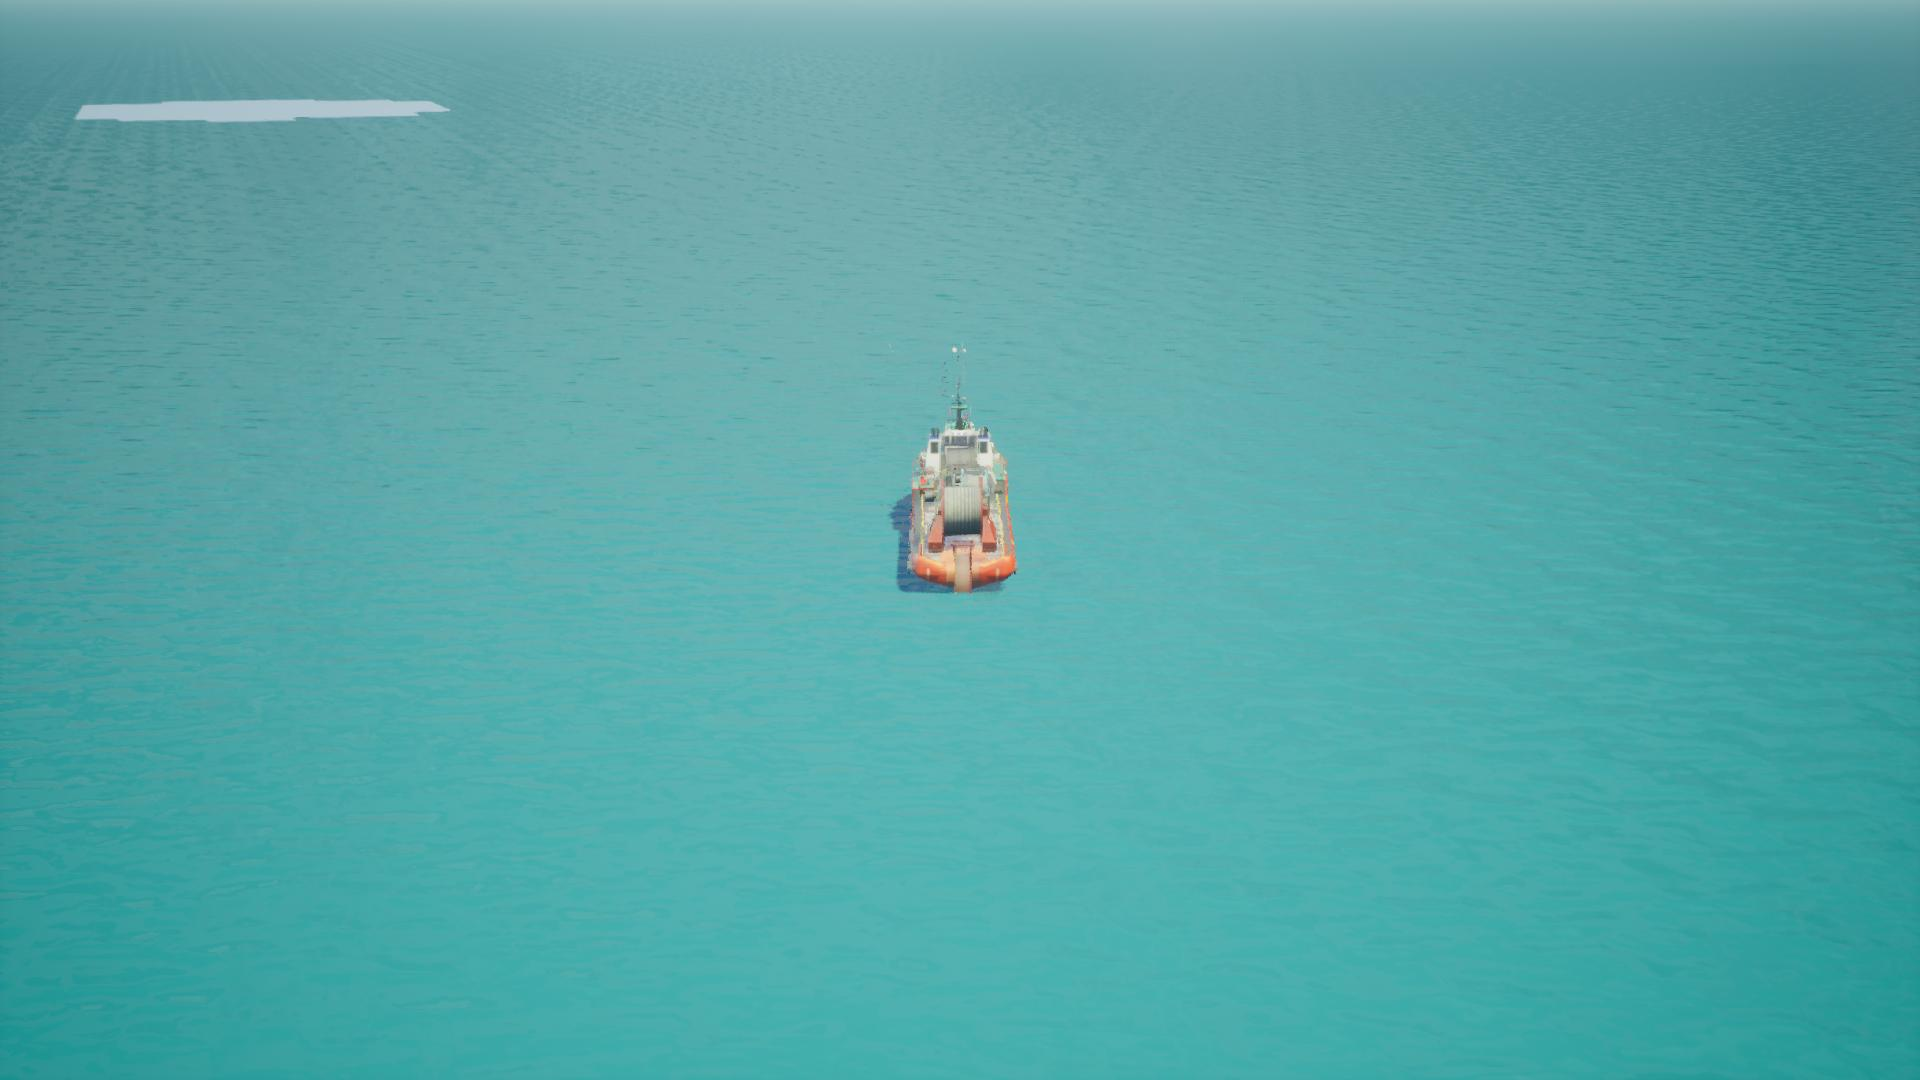Tug Boat: (895, 349, 1017, 595)
